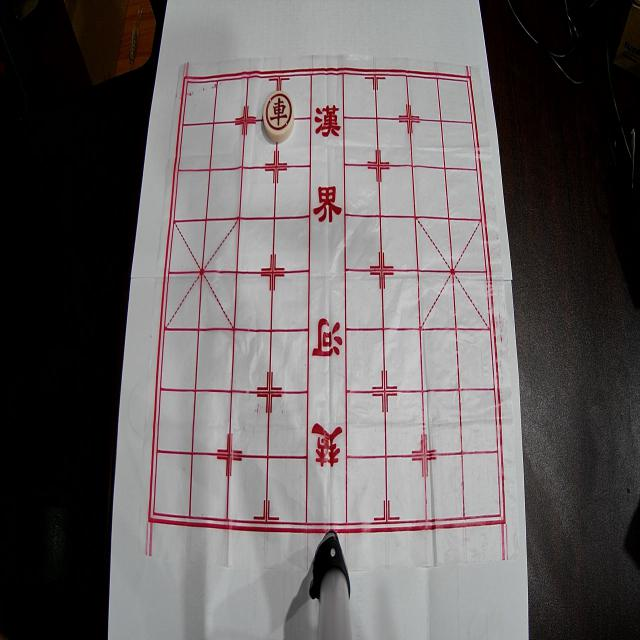red-chariot: (264, 91, 294, 142)
